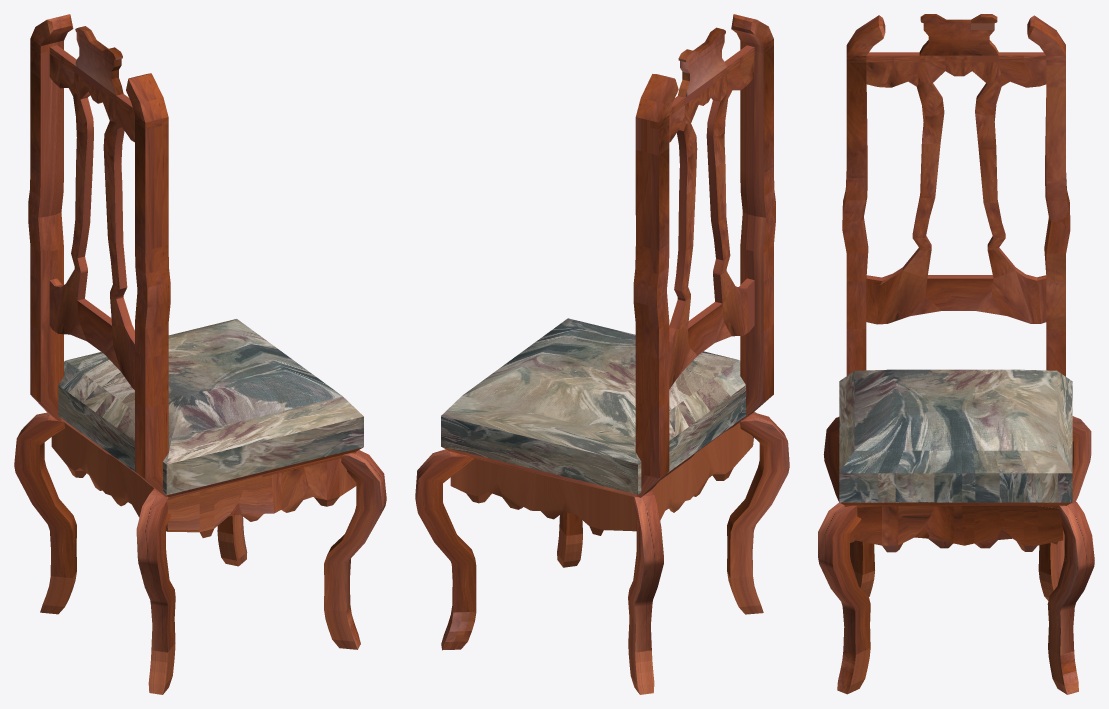
The model's file is Chair2.fbx.
The picture shows the model from 3 angles, left to right: view 1: azimuth 30°, elevation 25°; view 2: azimuth 150°, elevation 25°; view 3: azimuth 270°, elevation 25°; orthographic projection. The views are drawn at different scales.
Visible parts, largest first — view 1: Chair; view 2: Chair; view 3: Chair.
Part boxes in pixels (bbox=[...]): Chair: bbox=[14, 14, 386, 694]; Chair: bbox=[415, 14, 789, 694]; Chair: bbox=[818, 14, 1094, 694].
Size of the model in its own units: 60.68 by 142 by 61.05.
2 materials, 2 textured.
